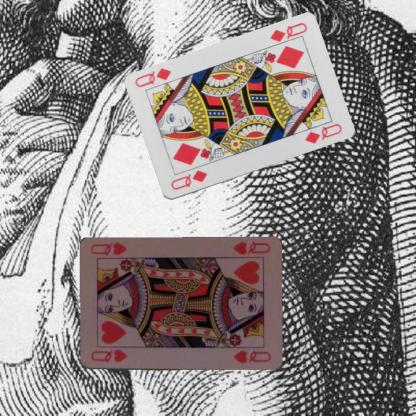Qd: (267, 20, 308, 49), (168, 167, 209, 192)
Qh: (88, 347, 128, 365), (229, 239, 271, 256)
